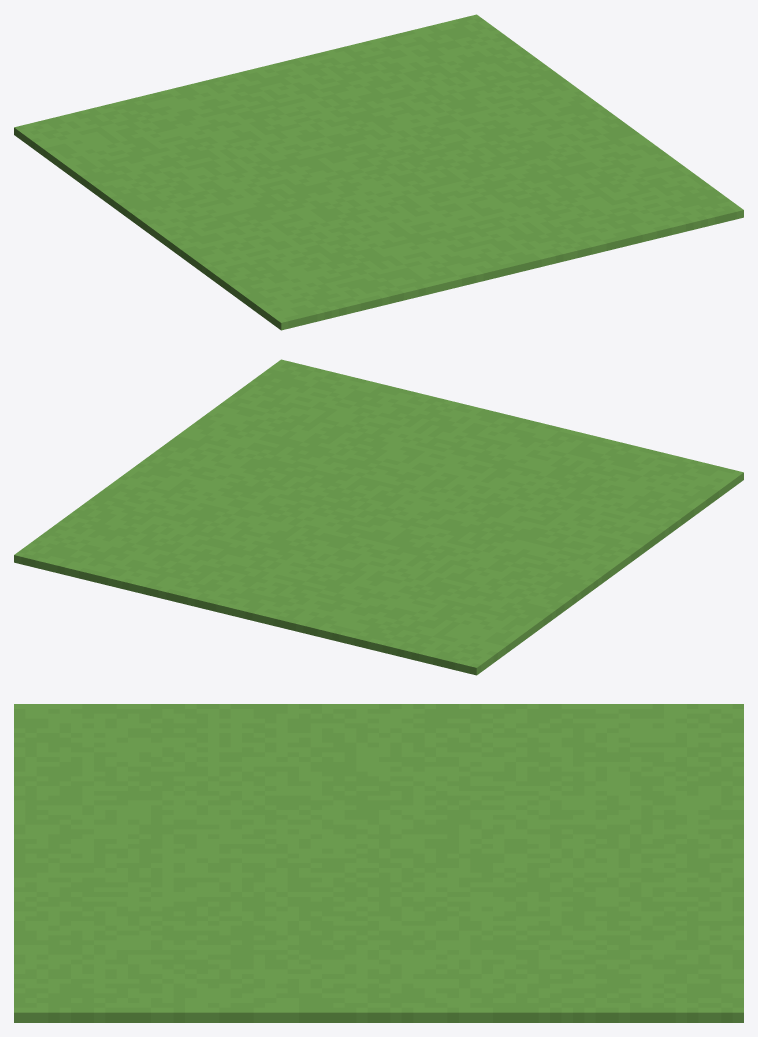
Rendered from Foliage_Grass.glb.
The picture shows the model from 3 angles, top to bottom: view 1: azimuth 30°, elevation 25°; view 2: azimuth 150°, elevation 25°; view 3: azimuth 270°, elevation 25°; orthographic projection. The views are drawn at different scales.
Visible parts, largest first — view 1: Foliage_Grass; view 2: Foliage_Grass; view 3: Foliage_Grass.
Boxes of the visible parts, left/top/right/bottom form: Foliage_Grass: left=14, top=14, right=743, bottom=330; Foliage_Grass: left=14, top=359, right=743, bottom=675; Foliage_Grass: left=14, top=704, right=743, bottom=1022.
Bounding box in the file's own units: 6.4 × 0.1 × 6.4.
1 material, 1 textured.
